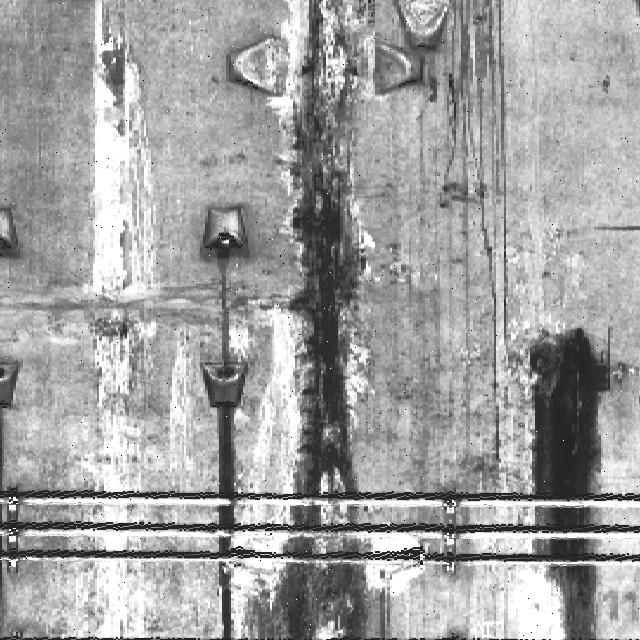leakage: (240, 0, 387, 639), (503, 293, 624, 639)
